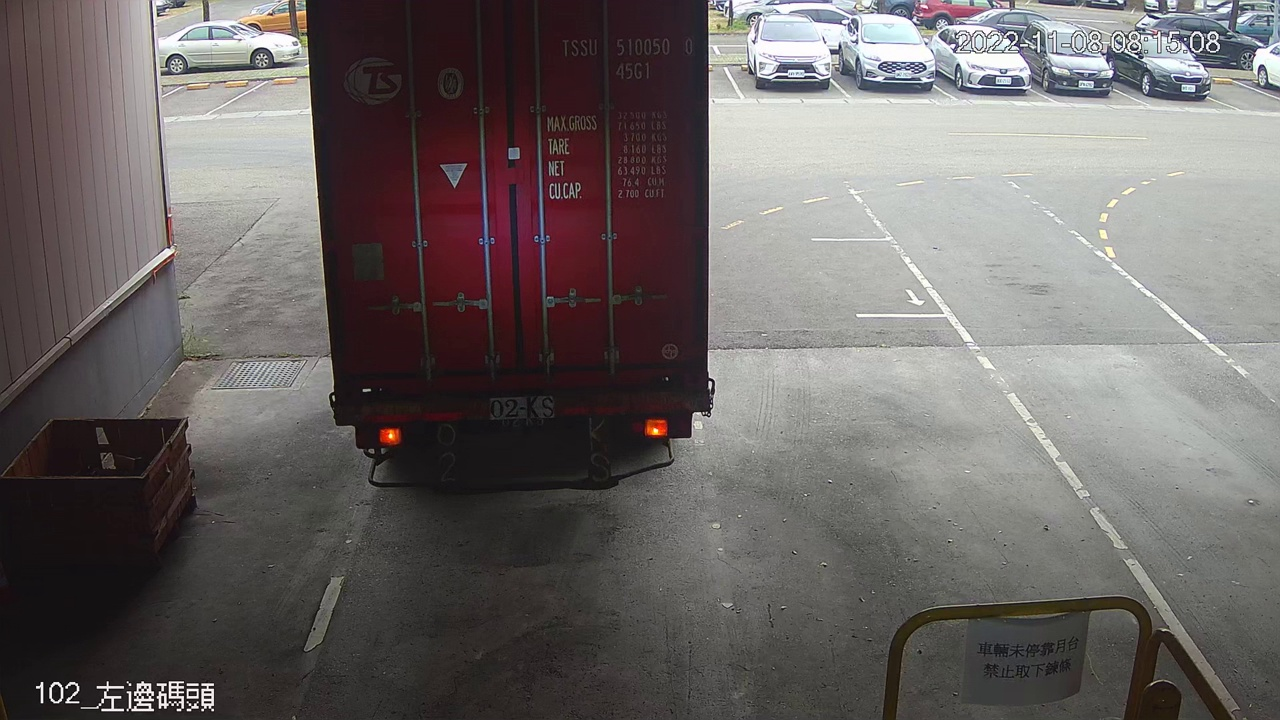container: (554, 25, 700, 87)
